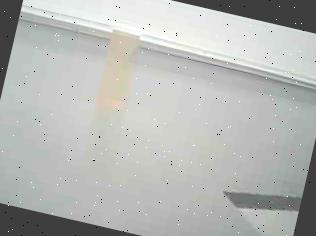Bottle A: (87, 16, 153, 125)
